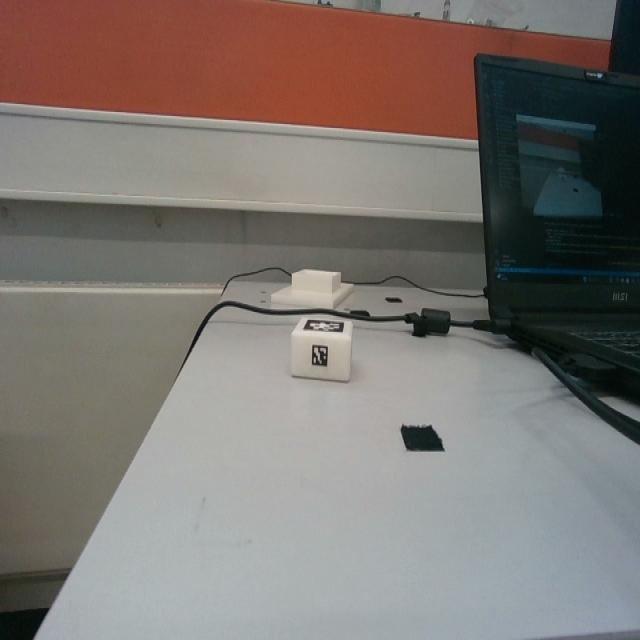Cube: (289, 312, 352, 383)
